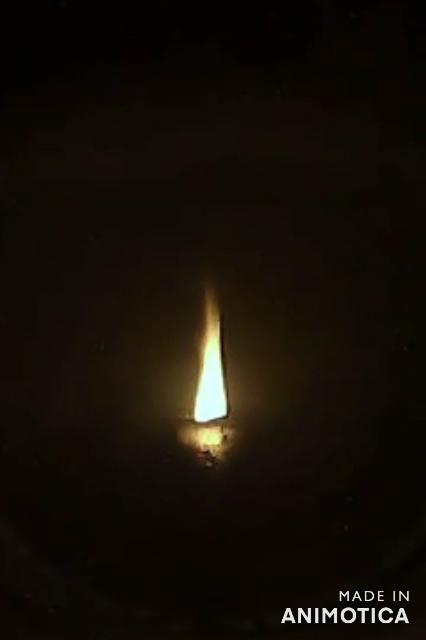burner flame: (190, 280, 234, 426)
